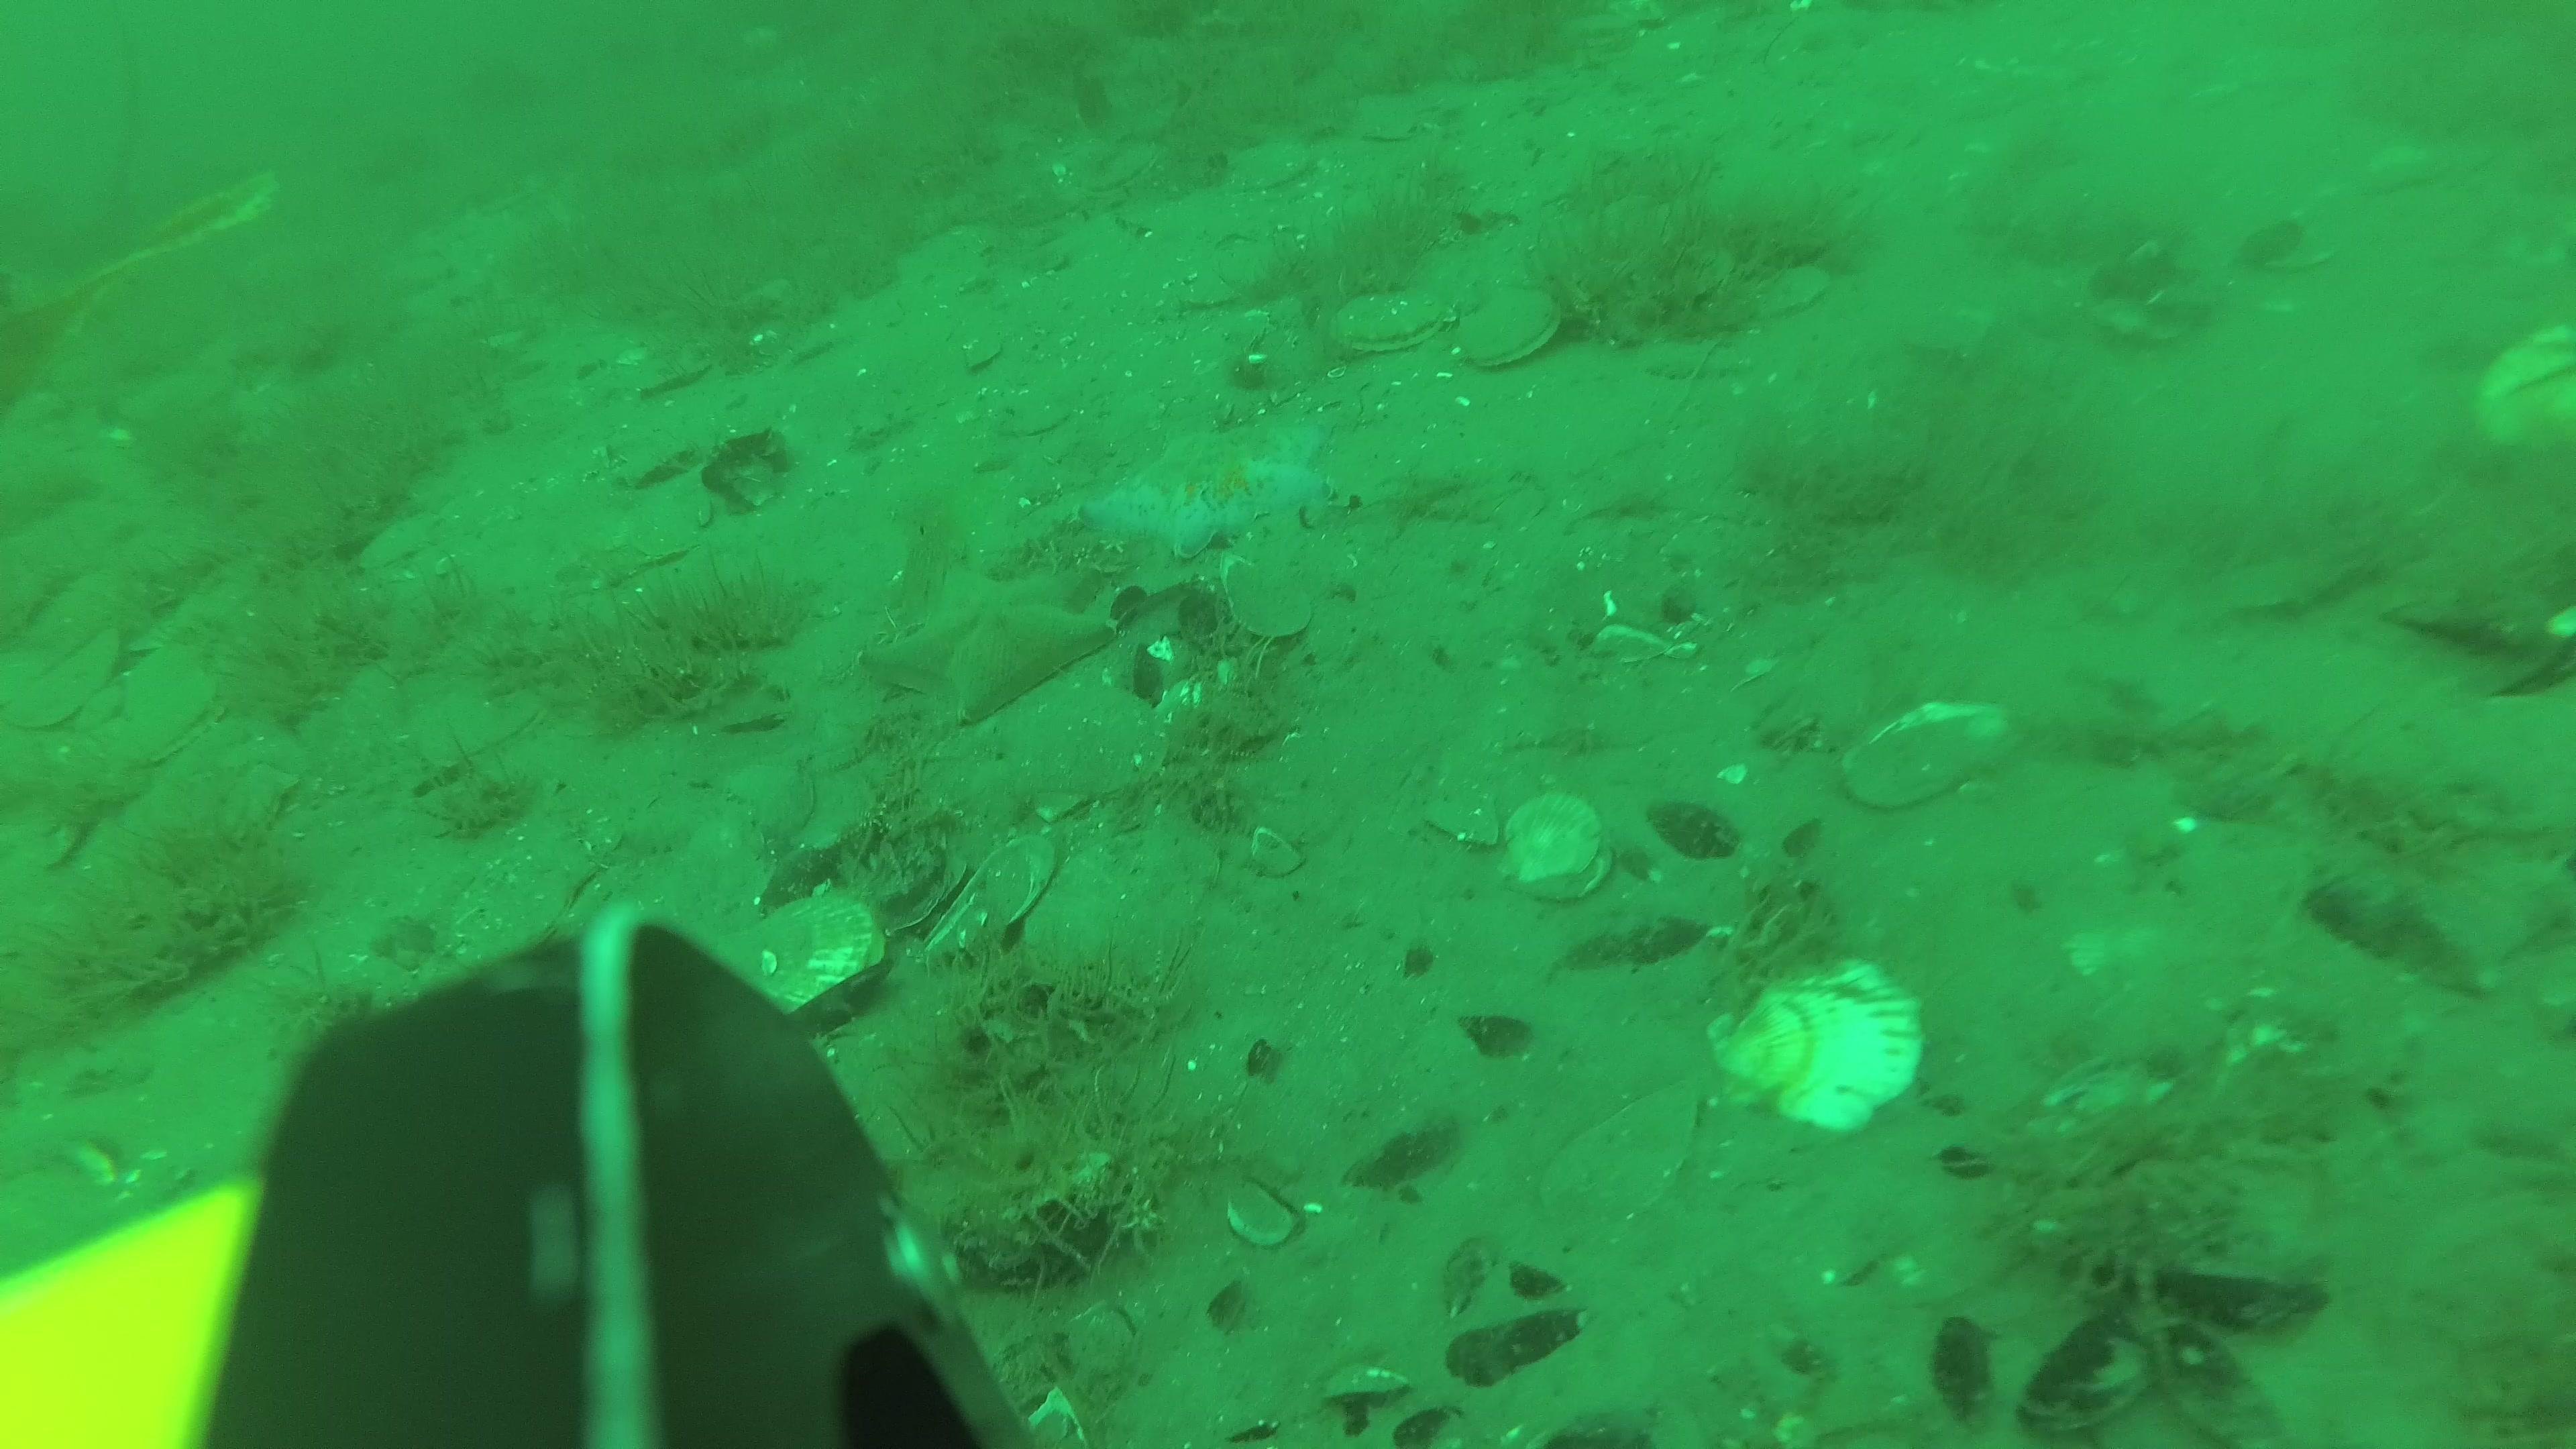scallop: (1706, 947, 1918, 1127), (676, 892, 885, 1040), (1844, 704, 2020, 812), (439, 860, 568, 984), (2473, 311, 2576, 453), (1497, 789, 1612, 906), (1323, 283, 1463, 349), (1219, 557, 1322, 644), (1453, 288, 1560, 370), (432, 697, 545, 764), (1224, 1177, 1302, 1254)
starfish: (874, 566, 1118, 722), (1079, 414, 1330, 556)
